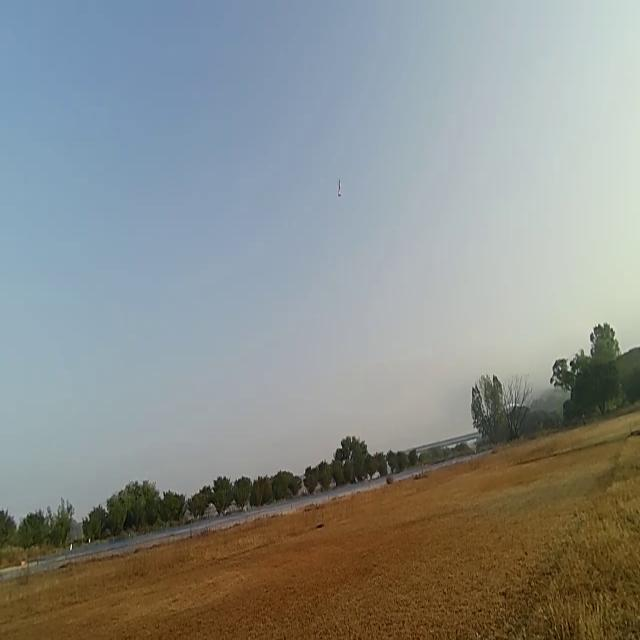iha: (338, 176, 340, 202)
